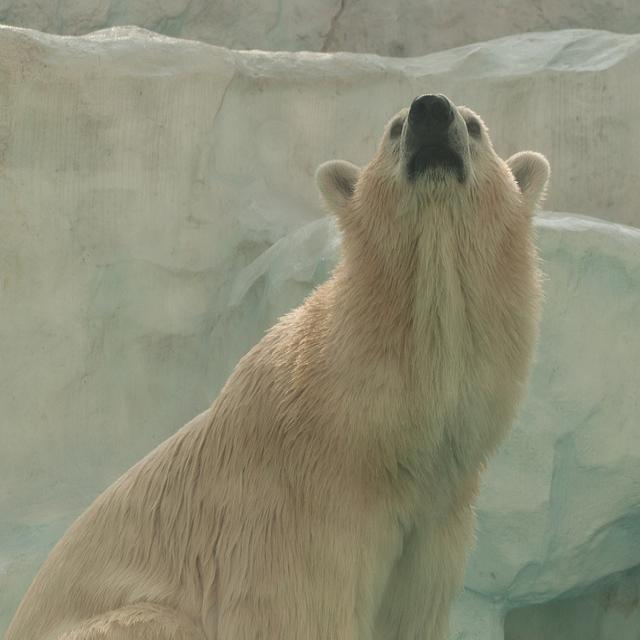bear: (1, 93, 551, 633)
